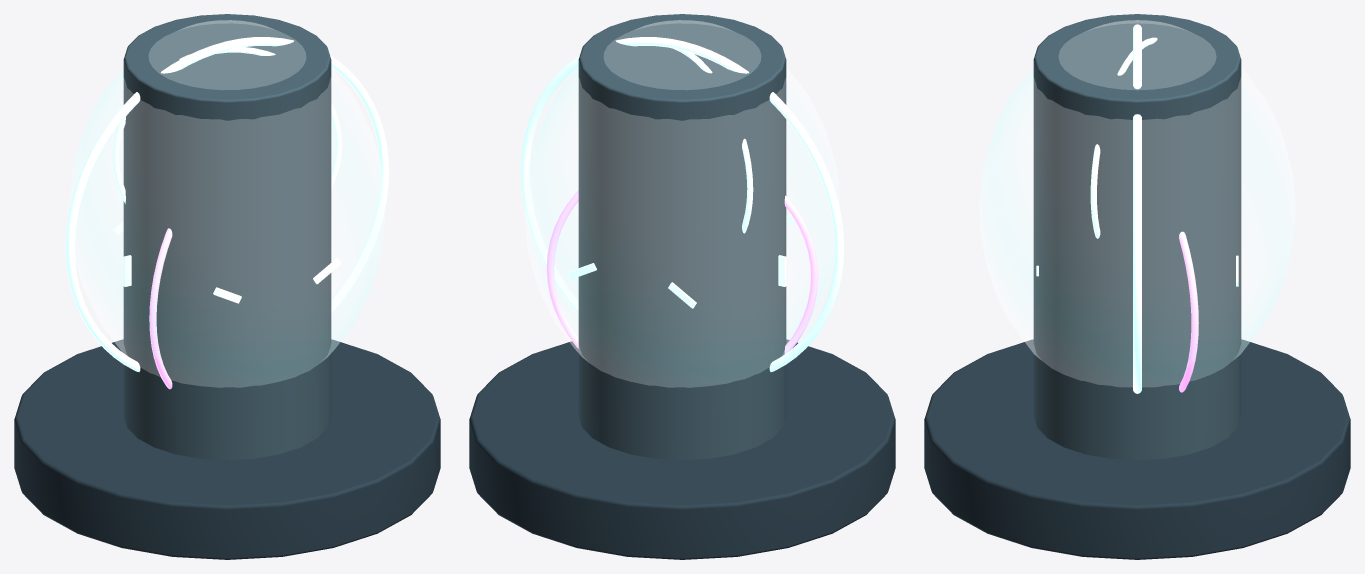
File: nexus_core.glb
The picture shows the model from 3 angles, left to right: view 1: azimuth 30°, elevation 25°; view 2: azimuth 150°, elevation 25°; view 3: azimuth 270°, elevation 25°; orthographic projection.
Parts seen in each view (by area): view 1: Core_Column, Core_Glass, Core_Pedestal, Core_Ring_0, Core_Ring_2, Core_Ring_1; view 2: Core_Column, Core_Glass, Core_Pedestal, Core_Ring_0, Core_Ring_1, Core_Ring_2; view 3: Core_Column, Core_Glass, Core_Pedestal, Core_Ring_0, Core_Ring_1, Core_Ring_2.
Boxes of the visible parts, x1,y1,x2,y2 form: Core_Column: (123,14,331,460); Core_Glass: (69,20,385,387); Core_Pedestal: (14,339,440,559); Core_Ring_0: (65,37,389,371); Core_Ring_2: (113,46,341,203); Core_Ring_1: (149,228,172,389); Core_Column: (578,14,786,460); Core_Glass: (524,20,840,387); Core_Pedestal: (469,339,895,559); Core_Ring_0: (520,37,844,371); Core_Ring_1: (546,190,818,353); Core_Ring_2: (672,48,753,233); Core_Column: (1033,14,1241,460); Core_Glass: (979,20,1295,386); Core_Pedestal: (924,339,1350,559); Core_Ring_0: (1133,24,1141,393); Core_Ring_1: (1179,231,1198,392); Core_Ring_2: (1090,37,1157,238).
Size of the model in its own units: 2.96 by 3.36 by 2.96.
